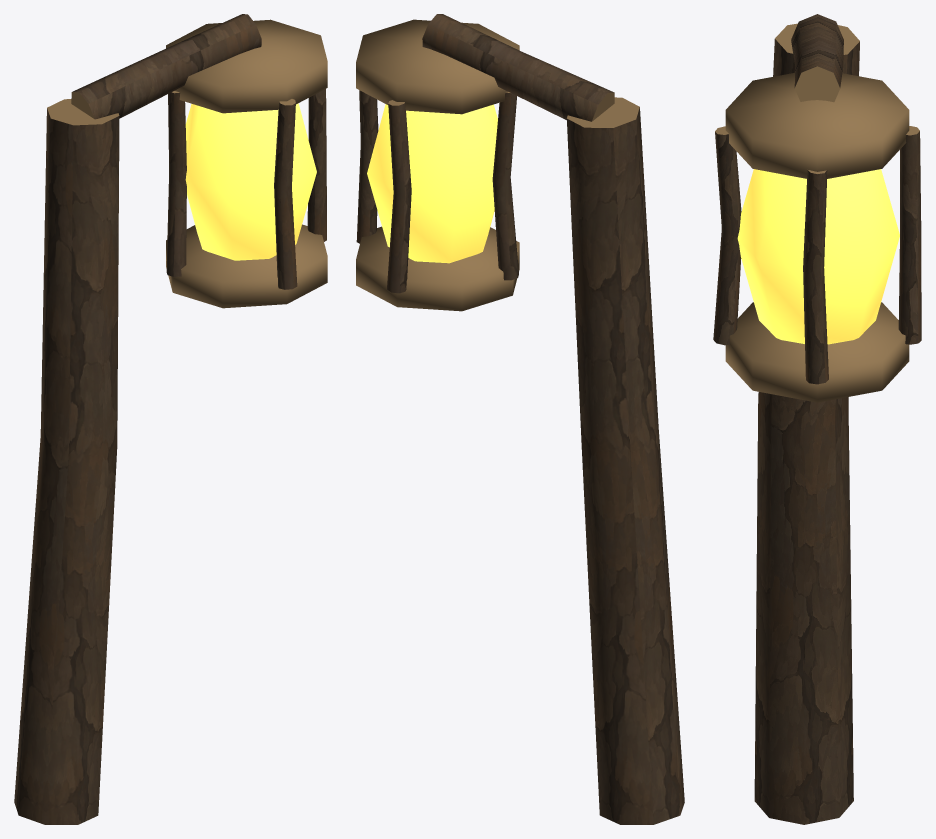
3 views of the same model, side by side, from view 1: azimuth 30°, elevation 25°; view 2: azimuth 150°, elevation 25°; view 3: azimuth 270°, elevation 25° (orthographic). The views are drawn at different scales.
Visible parts, largest first — view 1: woodland-amber-lantern · evaluated preview mesh; view 2: woodland-amber-lantern · evaluated preview mesh; view 3: woodland-amber-lantern · evaluated preview mesh.
Part boxes in pixels (x1,y1,x2,y2): woodland-amber-lantern · evaluated preview mesh: (14,14,327,824); woodland-amber-lantern · evaluated preview mesh: (356,14,684,824); woodland-amber-lantern · evaluated preview mesh: (713,14,921,824).
Bounding box in the file's own units: 1.24 × 2.83 × 0.6299.
3 materials, 1 textured.
